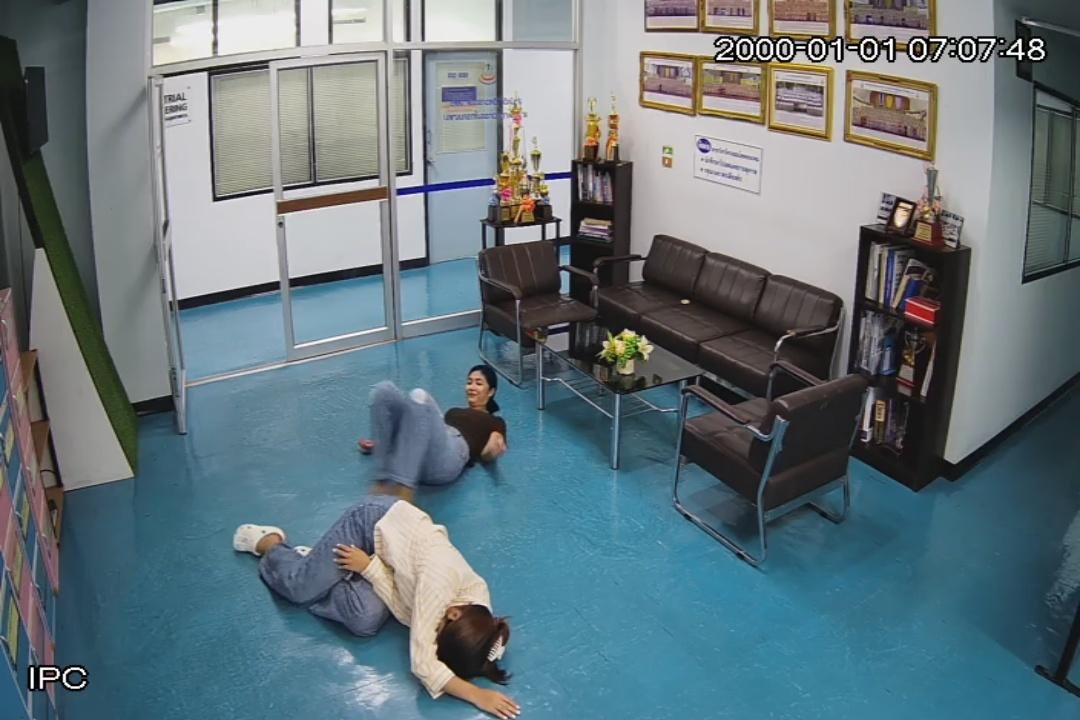fall: (234, 500, 516, 720), (358, 361, 505, 503)
